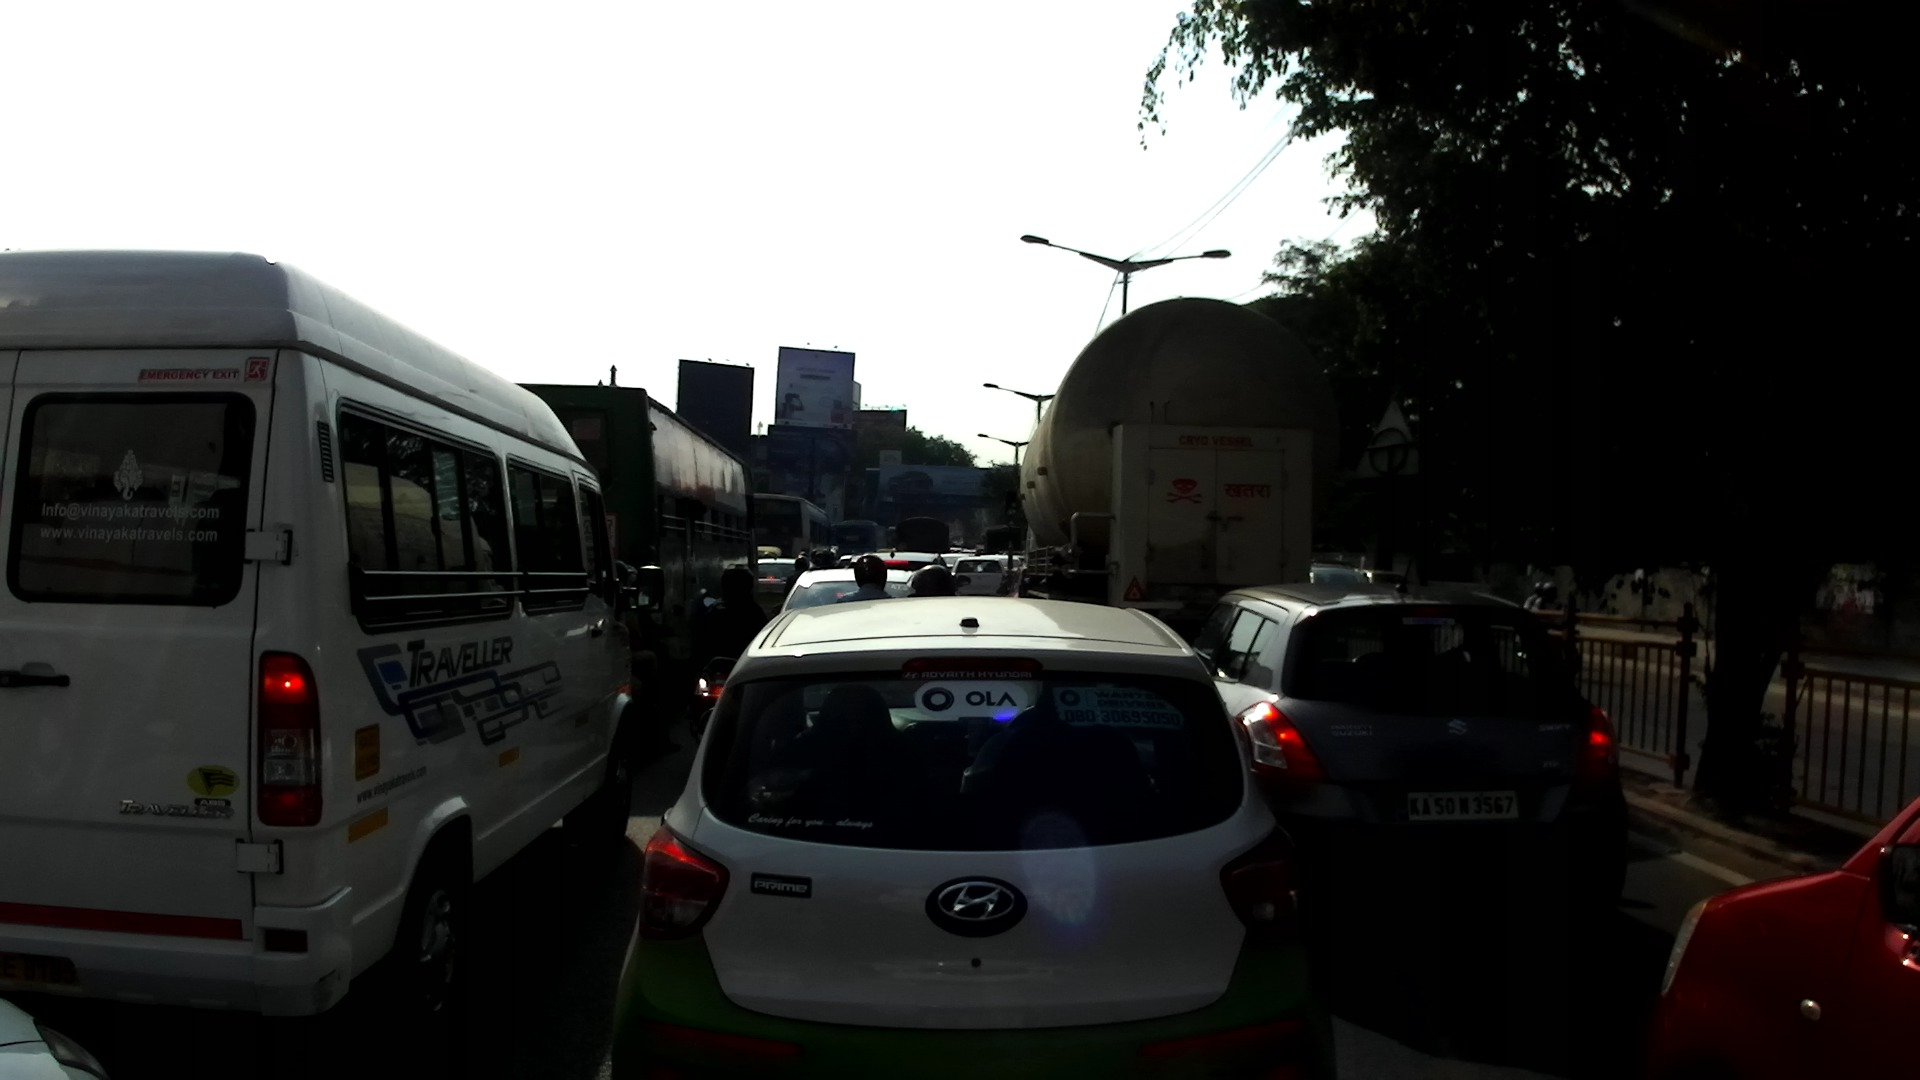autorickshaw: (755, 545, 782, 559)
bus: (3, 247, 663, 1035), (512, 383, 756, 772), (751, 493, 835, 561), (831, 519, 886, 560)
car: (606, 591, 1341, 1080), (1187, 581, 1631, 939), (1650, 789, 1920, 1077), (771, 568, 936, 626), (2, 996, 107, 1080), (849, 552, 972, 596), (759, 559, 821, 620), (950, 557, 1012, 604), (1310, 565, 1371, 595), (1358, 570, 1408, 598), (989, 554, 1024, 580), (940, 552, 972, 576), (836, 553, 853, 570)
motorcycle: (690, 595, 748, 755)
rider: (622, 560, 682, 752), (701, 561, 765, 703), (610, 556, 658, 718), (836, 556, 895, 607), (901, 562, 957, 599), (1532, 583, 1566, 624), (783, 557, 811, 597), (1520, 581, 1545, 620), (819, 551, 836, 572), (811, 548, 824, 570), (813, 552, 827, 572), (796, 551, 807, 560), (973, 552, 981, 557)
truck: (1014, 297, 1328, 640), (899, 517, 949, 557), (982, 527, 1024, 557)
vehicle fallback: (886, 526, 899, 552), (951, 545, 977, 556)
